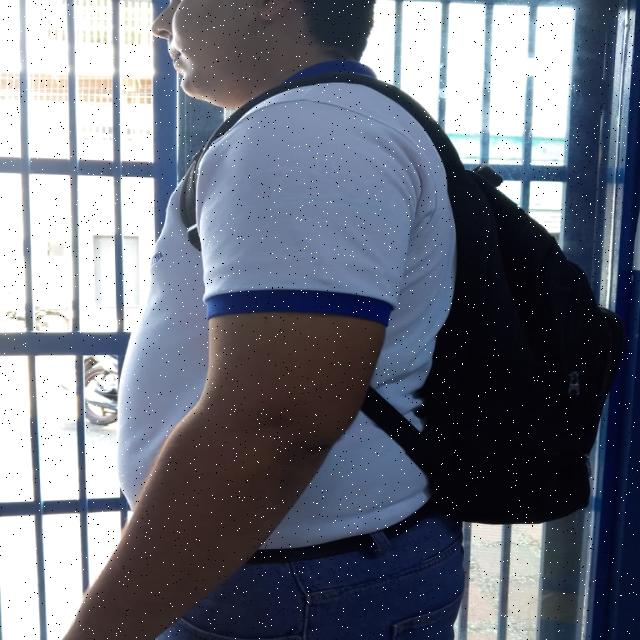uniforme_superior: (114, 57, 458, 551)
